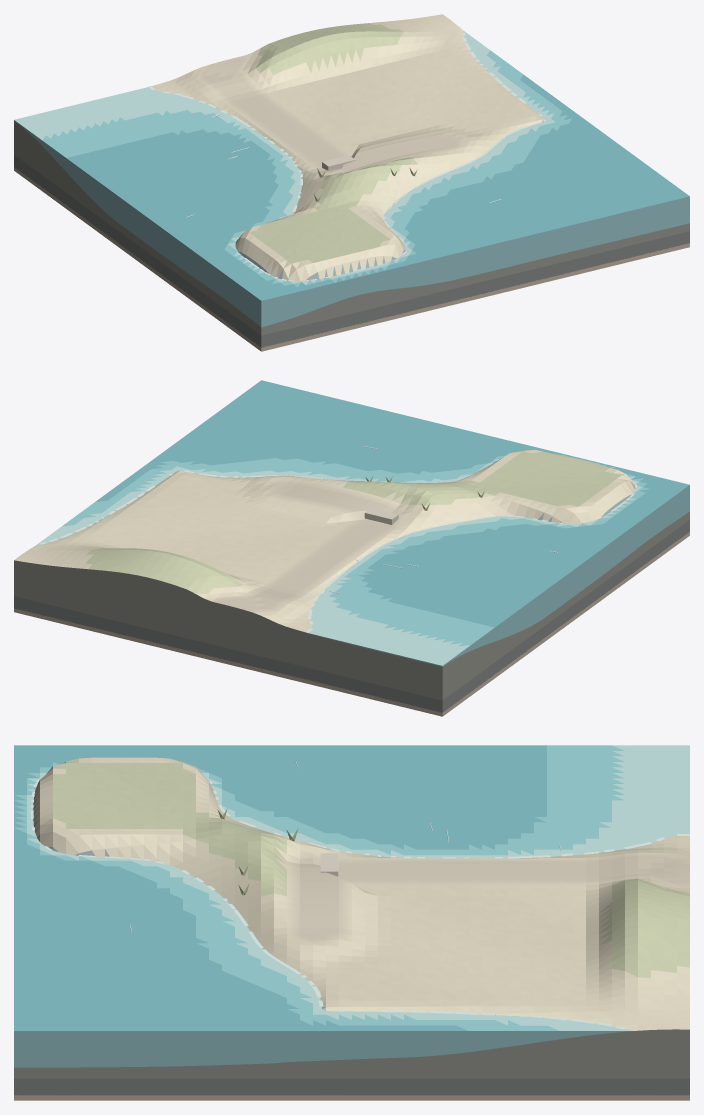
3 views of the same model, one above another, from view 1: azimuth 30°, elevation 25°; view 2: azimuth 150°, elevation 25°; view 3: azimuth 270°, elevation 25° (orthographic). The views are drawn at different scales.
Visible parts, largest first — view 1: proc_water, proc_ground, proc_skirt, proc_water_side, proc_foam; view 2: proc_water, proc_ground, proc_skirt, proc_water_side, proc_foam; view 3: proc_water, proc_ground, proc_skirt, proc_water_side, proc_foam.
Part boxes in pixels (x1,y1,x2,y2): proc_water: [14, 30, 689, 300]; proc_ground: [151, 14, 545, 280]; proc_skirt: [14, 121, 689, 351]; proc_water_side: [14, 120, 689, 327]; proc_foam: [148, 32, 542, 281]; proc_water: [35, 380, 689, 665]; proc_ground: [14, 449, 635, 632]; proc_skirt: [14, 511, 689, 716]; proc_water_side: [313, 485, 689, 666]; proc_foam: [40, 470, 637, 632]; proc_water: [14, 745, 689, 1030]; proc_ground: [33, 757, 689, 1030]; proc_skirt: [14, 1029, 689, 1100]; proc_water_side: [14, 1031, 632, 1067]; proc_foam: [30, 774, 689, 1029].
Size of the model in its own units: 8 by 1.38 by 8.
